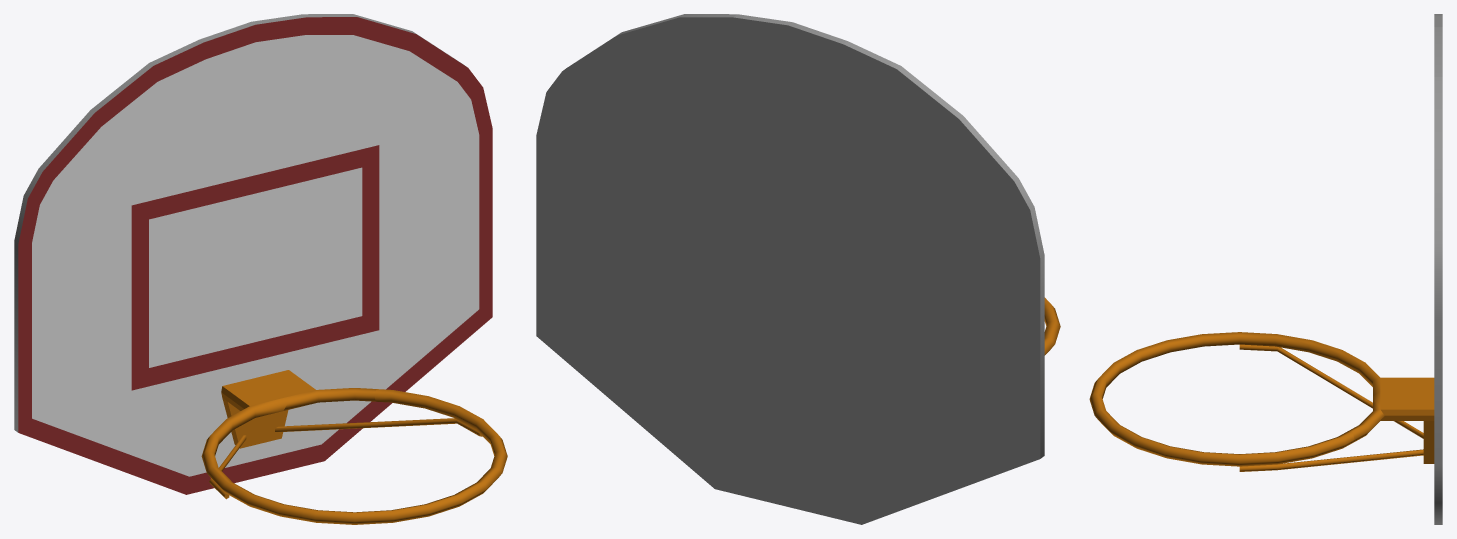
The model's file is Entity_BasketBallHoop-bkn.FBX.
3 views of the same model, side by side, from view 1: azimuth 30°, elevation 25°; view 2: azimuth 150°, elevation 25°; view 3: azimuth 270°, elevation 25° (orthographic). The views are drawn at different scales.
Visible parts, largest first — view 1: Backboard_Part_5, Backboard_Part_1, Backboard_Part_3, Backboard_Part_2, Backboard_Part_4, Hoop_Part_2, Hoop_Part_4, Hoop_Part_3, Hoop_Part_1; view 2: Backboard_Part_5, Backboard_Part_3, Backboard_Part_1, Backboard_Part_2, Backboard_Part_4; view 3: Hoop_Part_4, Hoop_Part_2, Hoop_Part_1, Backboard_Part_4, Hoop_Part_3, Backboard_Part_2, Backboard_Part_3.
Boxes of the visible parts, x1,y1,x2,y2 form: Backboard_Part_5: (14, 58, 183, 462); Backboard_Part_1: (147, 23, 391, 400); Backboard_Part_3: (100, 277, 492, 494); Backboard_Part_2: (159, 14, 387, 279); Backboard_Part_4: (376, 24, 492, 281); Hoop_Part_2: (221, 370, 378, 448); Hoop_Part_4: (201, 394, 305, 520); Hoop_Part_3: (302, 443, 507, 524); Hoop_Part_1: (374, 389, 505, 452); Backboard_Part_5: (865, 61, 1044, 490); Backboard_Part_3: (536, 293, 953, 524); Backboard_Part_1: (643, 23, 903, 424); Backboard_Part_2: (648, 14, 890, 296); Backboard_Part_4: (536, 25, 659, 298); Hoop_Part_4: (1148, 332, 1410, 408); Hoop_Part_2: (1342, 377, 1434, 463); Hoop_Part_1: (1181, 431, 1354, 471); Backboard_Part_4: (1434, 147, 1442, 464); Hoop_Part_3: (1089, 346, 1184, 460); Backboard_Part_2: (1434, 16, 1442, 143); Backboard_Part_3: (1434, 465, 1442, 524).
Bounding box in the file's own units: 161 × 147 × 106.
